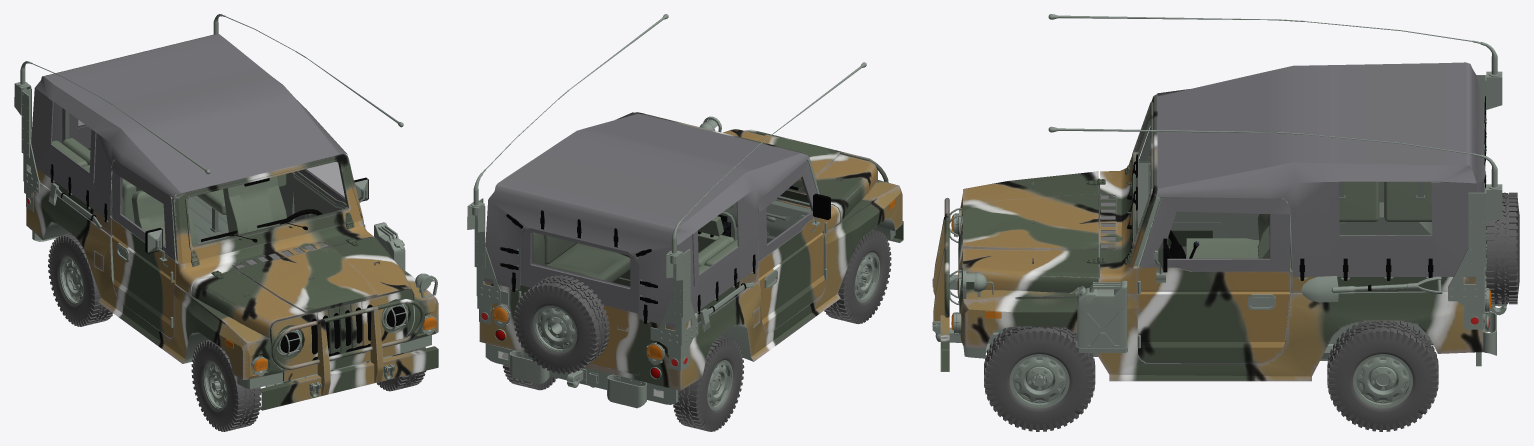
Rendered from KIA_KM420.fbx.
The picture shows the model from 3 angles, left to right: view 1: azimuth 30°, elevation 25°; view 2: azimuth 150°, elevation 25°; view 3: azimuth 270°, elevation 25°; orthographic projection. The views are drawn at different scales.
Visible parts, largest first — view 1: polySurface7160, polySurface7203, polySurface165, polySurface7164, polySurface7198, polySurface7201, polySurface7209, polySurface7192 (×2), polySurface174, polySurface1642 (×2), polySurface168, polySurface157 (+9 smaller); view 2: polySurface7160, polySurface7203, polySurface155, polySurface7140, polySurface7209, polySurface157, polySurface7164, polySurface174, polySurface7202, polySurface7192, polySurface7207, pCube30 (×2) (+11 smaller); view 3: polySurface7160, polySurface7203, polySurface7164, polySurface7191, polySurface154, polySurface7192, polySurface173, polySurface7200, polySurface168, polySurface7208, polySurface155, polySurface165 (+10 smaller).
Part boxes in pixels (<box>): polySurface7160: <box>31,33,347,222</box>; polySurface7203: <box>26,167,438,389</box>; polySurface165: <box>174,153,363,263</box>; polySurface7164: <box>192,237,414,337</box>; polySurface7198: <box>258,299,438,410</box>; polySurface7201: <box>270,290,413,381</box>; polySurface7209: <box>112,218,177,338</box>; polySurface7192 (×2): <box>111,160,346,260</box>; polySurface174: <box>191,340,261,431</box>; polySurface1642 (×2): <box>131,176,286,245</box>; polySurface168: <box>175,219,375,295</box>; polySurface157: <box>48,233,112,326</box>; polySurface7160: <box>483,112,809,327</box>; polySurface7203: <box>479,180,902,390</box>; polySurface155: <box>513,275,609,373</box>; polySurface7140: <box>521,228,639,313</box>; polySurface7209: <box>758,217,825,332</box>; polySurface157: <box>673,336,744,431</box>; polySurface7164: <box>723,129,877,221</box>; polySurface174: <box>824,229,891,324</box>; polySurface7202: <box>485,343,678,408</box>; polySurface7192: <box>758,160,817,261</box>; polySurface7207: <box>474,198,698,345</box>; pCube30 (×2): <box>546,237,730,282</box>; polySurface7160: <box>1156,62,1485,280</box>; polySurface7203: <box>959,182,1483,381</box>; polySurface7164: <box>963,171,1098,293</box>; polySurface7191: <box>1138,265,1289,363</box>; polySurface154: <box>1327,321,1438,431</box>; polySurface7192: <box>1139,197,1289,271</box>; polySurface173: <box>984,326,1095,431</box>; polySurface7200: <box>1070,187,1484,352</box>; polySurface168: <box>1100,164,1137,294</box>; polySurface7208: <box>1048,14,1502,222</box>; polySurface155: <box>1485,192,1519,304</box>; polySurface165: <box>1129,94,1157,268</box>.
Bounding box in the file's own units: 13.07 × 14.28 × 24.83.
